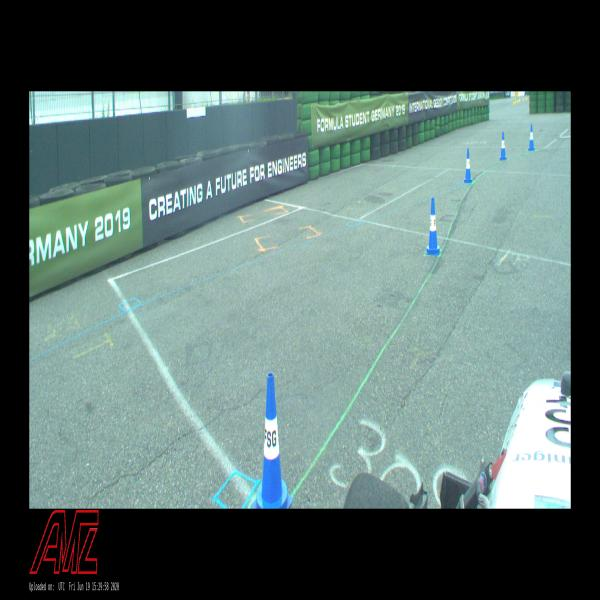blue_cone: (251, 373, 293, 509), (425, 198, 440, 255), (464, 149, 472, 183), (500, 132, 507, 160), (528, 125, 535, 150)
yellow_cone: (518, 96, 520, 101), (513, 97, 514, 104), (515, 97, 516, 103), (526, 94, 527, 99), (523, 96, 524, 100), (518, 96, 518, 102)
